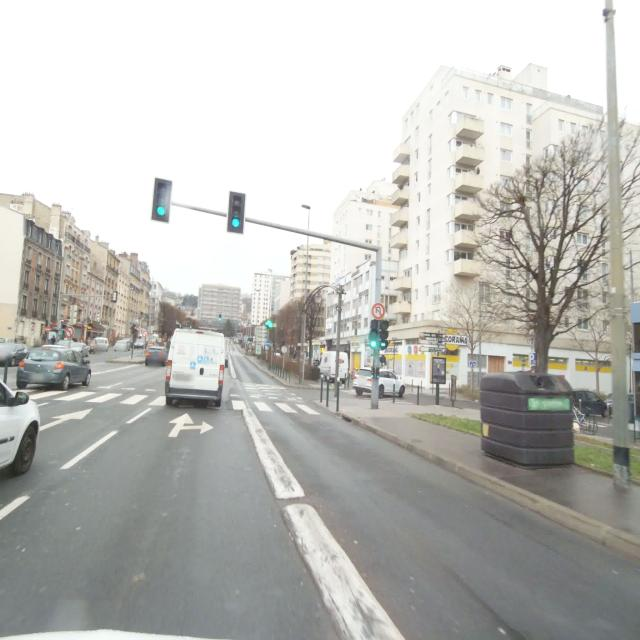car: (0, 351, 40, 527), (164, 325, 228, 409), (16, 346, 91, 390), (352, 366, 406, 398), (572, 388, 612, 418), (318, 349, 349, 384), (0, 342, 29, 367), (144, 344, 168, 366), (90, 337, 109, 352), (114, 338, 132, 351), (133, 336, 146, 349)
